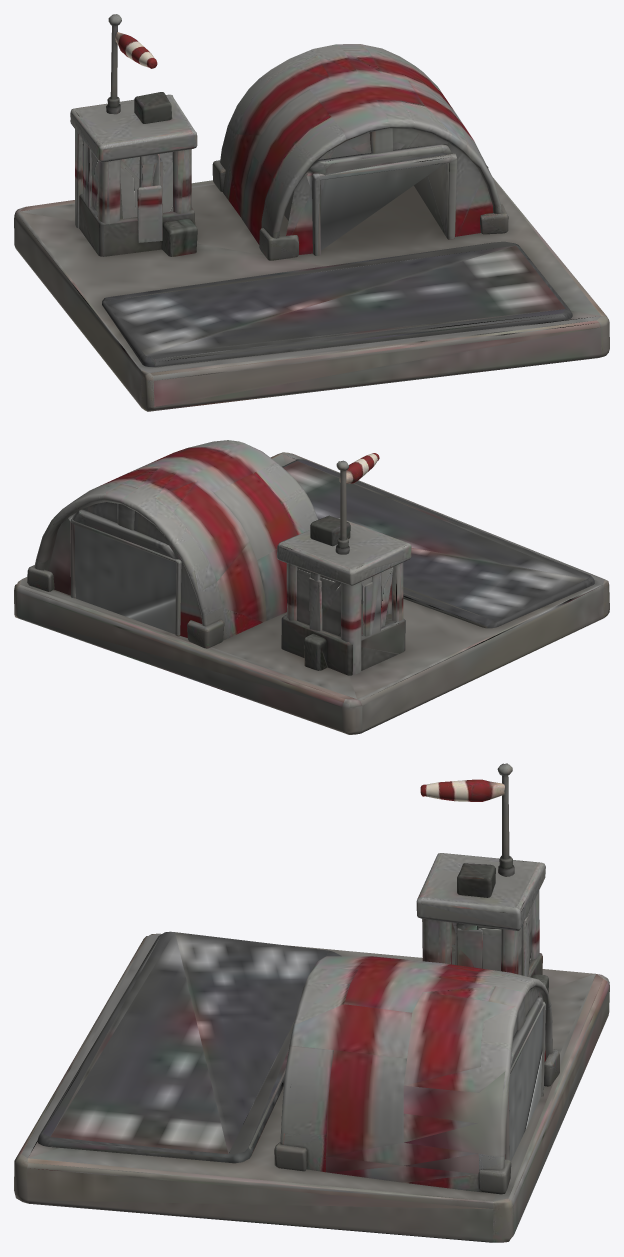
Rendered from airfield.glb.
3 views of the same model, one above another, from view 1: azimuth 30°, elevation 25°; view 2: azimuth 150°, elevation 25°; view 3: azimuth 270°, elevation 25° (orthographic). The views are drawn at different scales.
Parts seen in each view (by area): view 1: hull; view 2: hull; view 3: hull.
Part boxes in pixels (x1,y1,x2,y2): hull: (14, 14, 609, 411); hull: (14, 440, 609, 734); hull: (14, 763, 609, 1242).
Bounding box in the file's own units: 1 × 0.5053 × 0.9565.
1 material, 1 textured.
